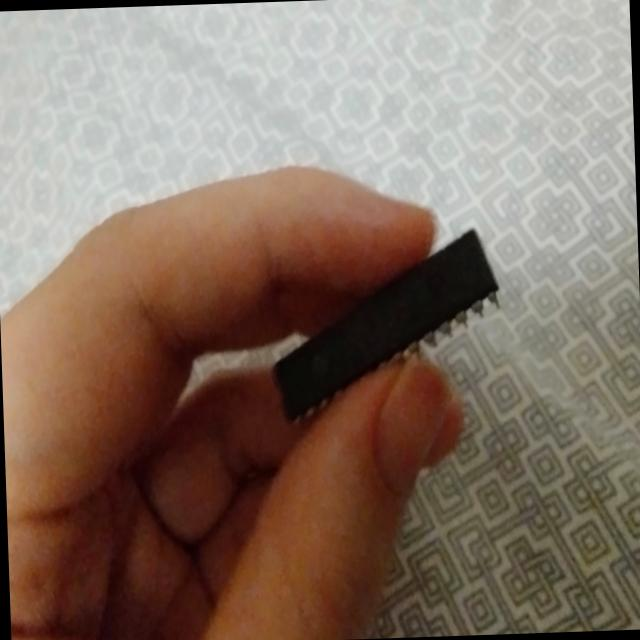atmega: (252, 216, 508, 428)
